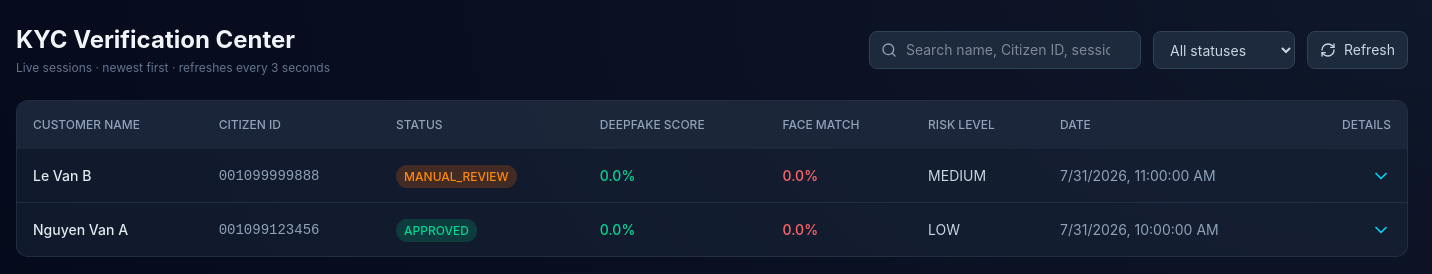
KycVerificationCenter Component › filters sessions by search query
Expected: the text "Nguyen Van A" is shown, [17, 203, 203, 256]
Type "Le Van B" into the search field named "Search KYC sessions" at (1005, 50), box [869, 31, 1141, 69]
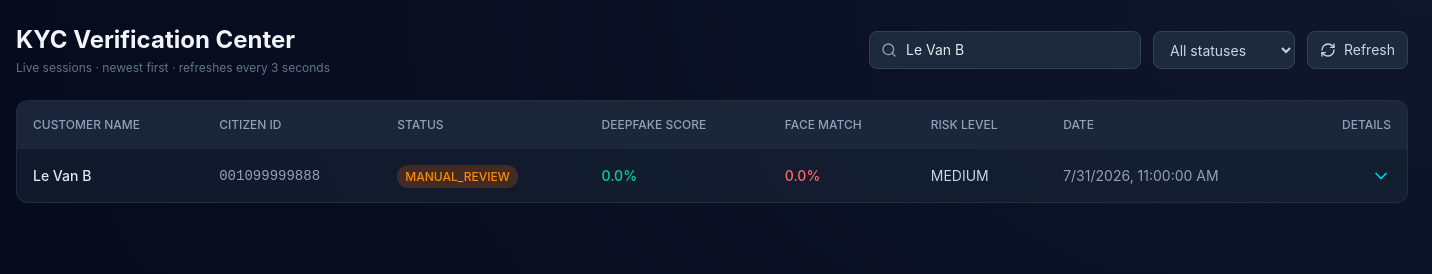
Expected: the text "Le Van B" is shown, [17, 149, 203, 202]
Expected: the text "Nguyen Van A" is gone
